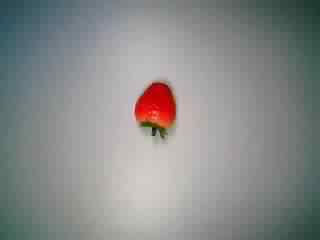strawberry: (119, 80, 187, 144)
